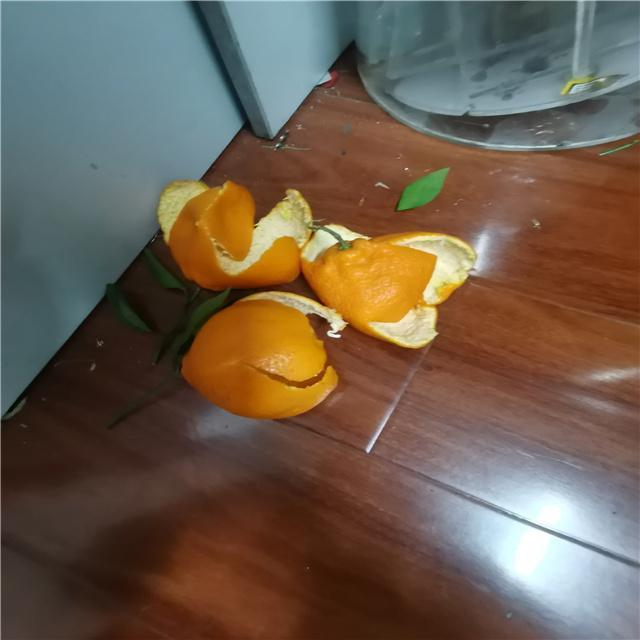orange peel: (298, 222, 478, 348), (183, 292, 344, 419), (156, 180, 314, 292)
